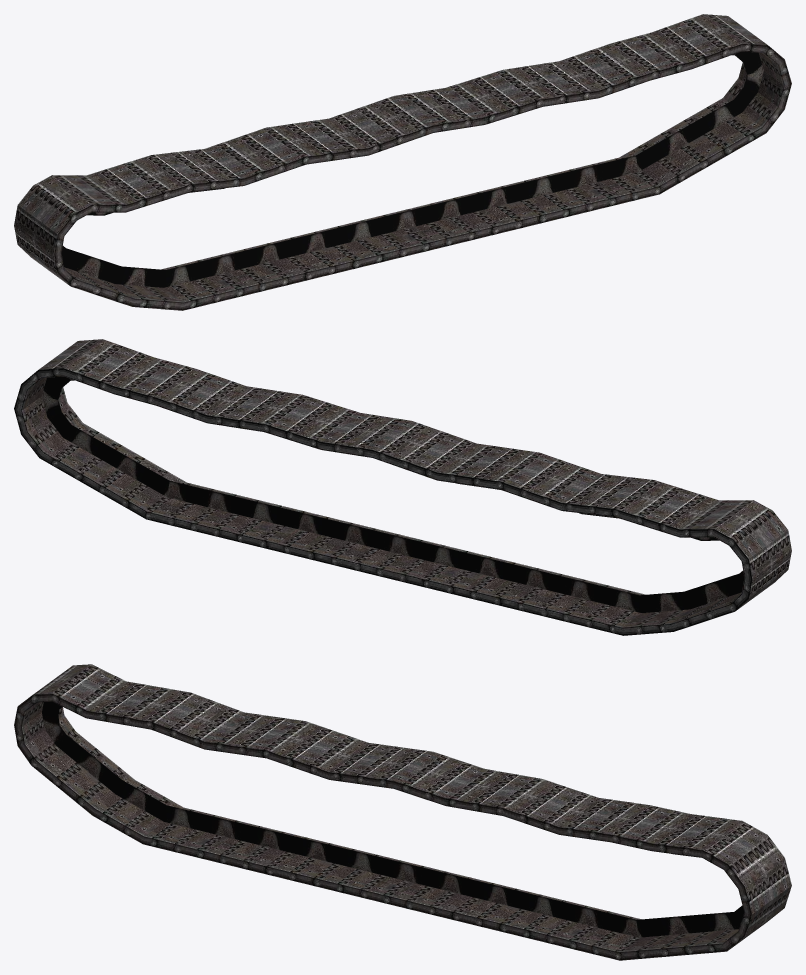
Rendered from track.obj.
3 renders of one model, top to bottom at view 1: azimuth 30°, elevation 25°; view 2: azimuth 150°, elevation 25°; view 3: azimuth 330°, elevation 25°, orthographic.
Visible parts, largest first — view 1: LOD01_t-01; view 2: LOD01_t-01; view 3: LOD01_t-01.
Boxes of the visible parts, box(x1,y1,x2,y2) form: LOD01_t-01: box(14, 14, 791, 310); LOD01_t-01: box(14, 339, 791, 635); LOD01_t-01: box(14, 664, 791, 960).
Size of the model in its own units: 11 by 1.87 by 1.02.
1 material, 1 textured.
